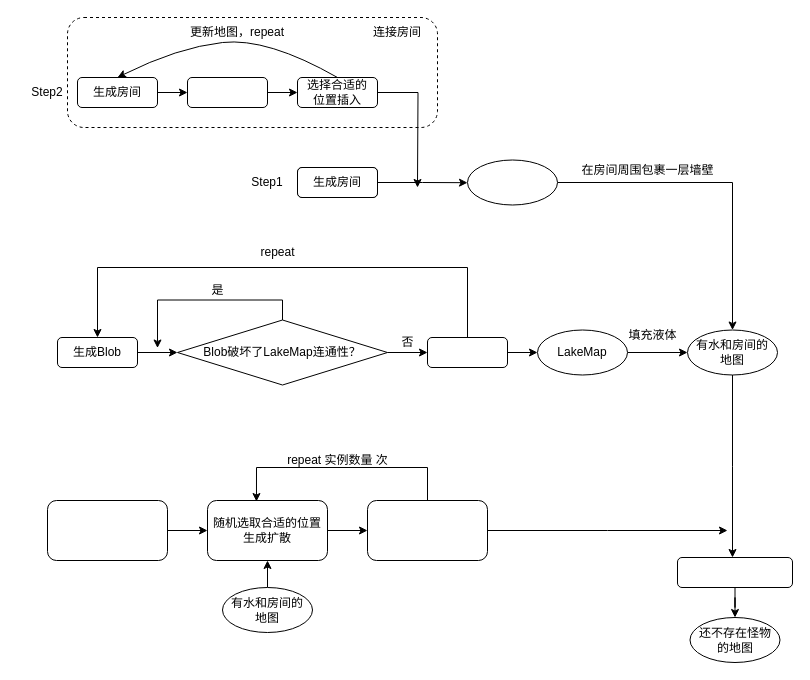
This 810x680 diagram has some shape labels left out. Each missing label, with the centre of its shape:
加入LakeMap: point 467,352
包含房间的地图: point 512,182
更新fg造成的效果: point 734,572
根据扩散结果 放置fg 或override地形: point 427,530
选中一种fg，计算fg应该生成的实例数量: point 107,530
选取4个方向door的位置: point 227,92
